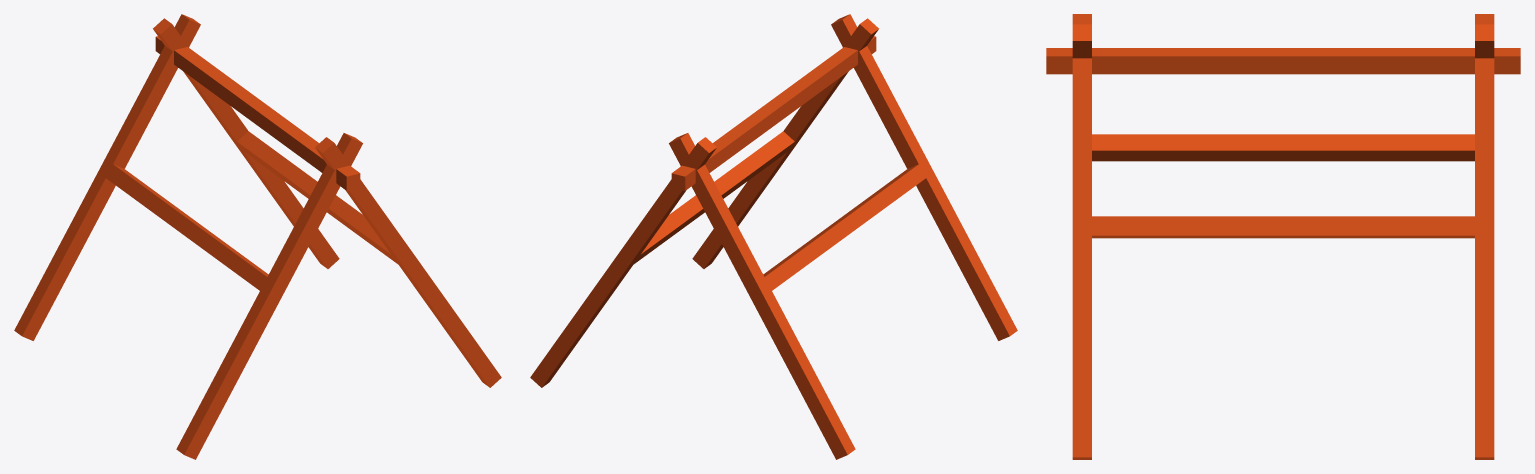
File: tent.obj
The picture shows the model from 3 angles, left to right: view 1: azimuth 30°, elevation 25°; view 2: azimuth 150°, elevation 25°; view 3: azimuth 270°, elevation 25°; orthographic projection. The views are drawn at different scales.
Visible parts, largest first — view 1: tent; view 2: tent; view 3: tent.
Boxes of the visible parts, bbox=[...] form: tent: bbox=[14, 14, 501, 459]; tent: bbox=[530, 14, 1017, 459]; tent: bbox=[1046, 14, 1520, 459].
Bounding box in the file's own units: 0.5392 × 0.4598 × 0.5623.
